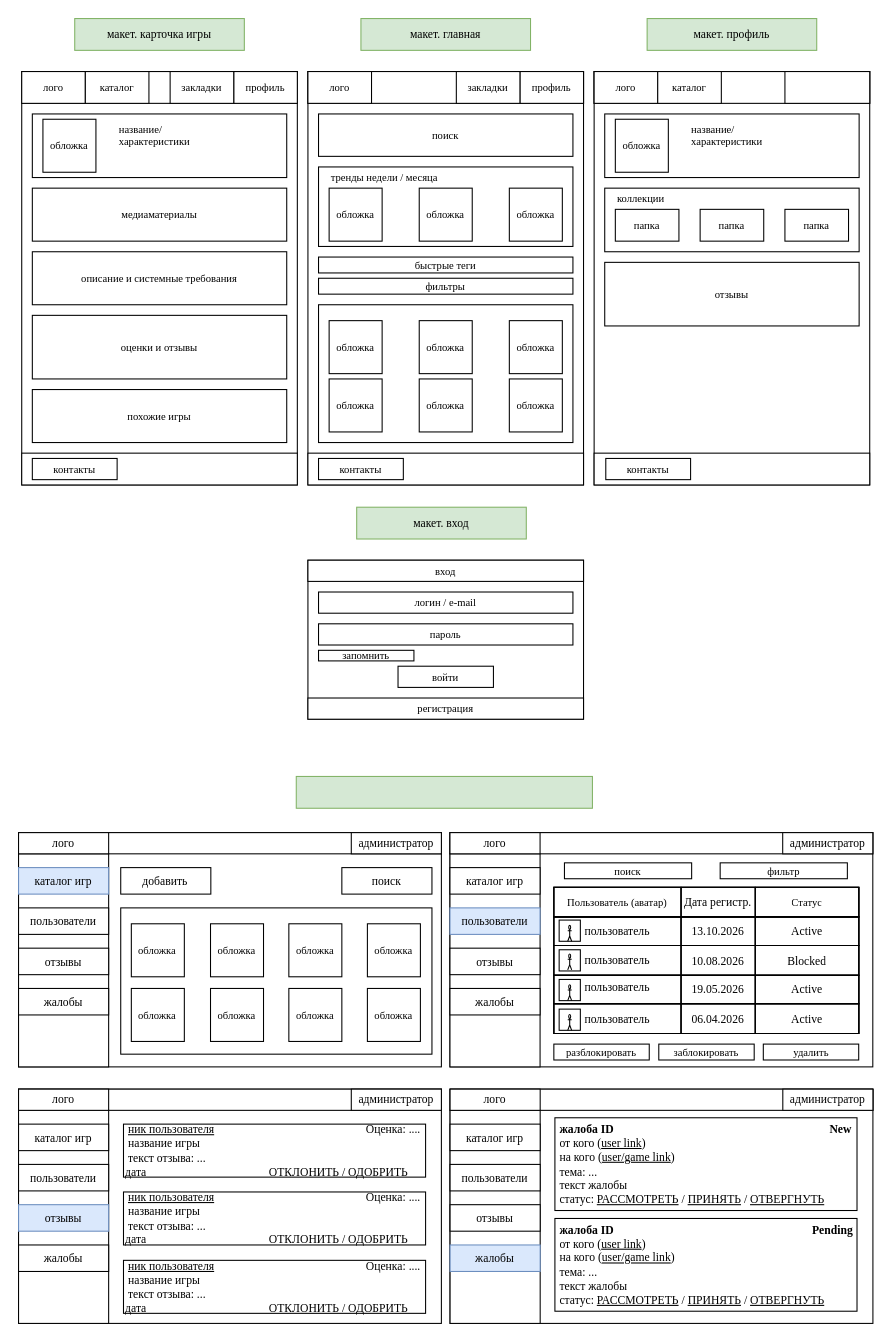
Some shapes in this 891 by 1342 pixel diagram are drawn without their labels. The centre of each missing label's shape, as x and y in pixels:
макет панели администратора: pixel 443 791
профиль("user"): pixel 827 86
